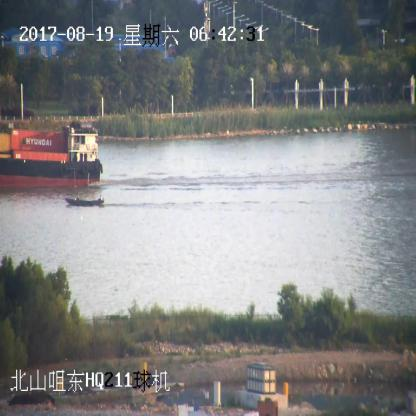Container Ship: (0, 120, 102, 190)
